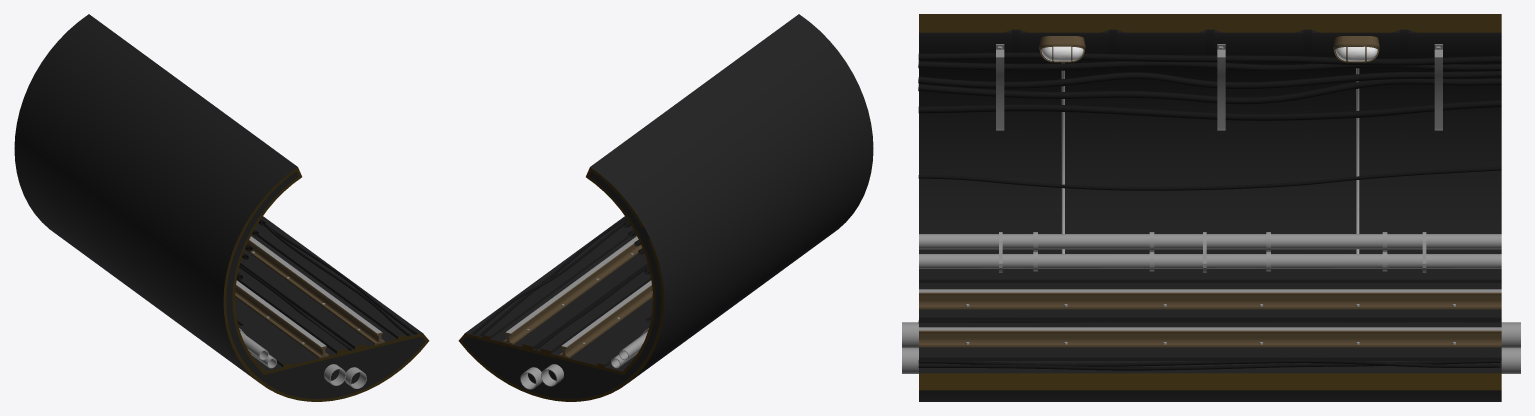
File: subway.fbx
The picture shows the model from 3 angles, left to right: view 1: azimuth 30°, elevation 25°; view 2: azimuth 150°, elevation 25°; view 3: azimuth 270°, elevation 25°; orthographic projection. The views are drawn at different scales.
Visible parts, largest first — view 1: Tunnel, Rails, wires2, underground pipes, pipes, wires3; view 2: Tunnel, Rails, wires2, underground pipes, pipes, wires3; view 3: Tunnel, Rails, wires, pipes, wires2, wire3, underground pipes, wires3, wire holder 2, wire holder 3, wire holder1, lamp wires2 (+3 smaller).
Part boxes in pixels (box(x1,y1,x2,y2)): Tunnel: box(14, 14, 429, 401); Rails: box(235, 236, 384, 358); wires2: box(261, 218, 416, 336); underground pipes: box(324, 364, 366, 388); pipes: box(240, 331, 276, 368); wires3: box(239, 265, 351, 350); Tunnel: box(458, 14, 873, 401); Rails: box(503, 236, 652, 358); wires2: box(472, 217, 627, 336); underground pipes: box(520, 364, 563, 389); pipes: box(611, 331, 647, 368); wires3: box(535, 265, 648, 350); Tunnel: box(919, 14, 1501, 401); Rails: box(919, 289, 1501, 347); wires: box(918, 52, 1501, 120); pipes: box(919, 232, 1501, 271); wires2: box(918, 359, 1500, 370); wire3: box(918, 167, 1501, 190); underground pipes: box(902, 322, 1520, 373); wires3: box(918, 319, 1500, 323); wire holder 2: box(1217, 44, 1225, 130); wire holder 3: box(1434, 44, 1442, 130); wire holder1: box(996, 44, 1004, 130); lamp wires2: box(1356, 68, 1359, 253).
Bounding box in the file's own units: 171 × 192 × 319.
